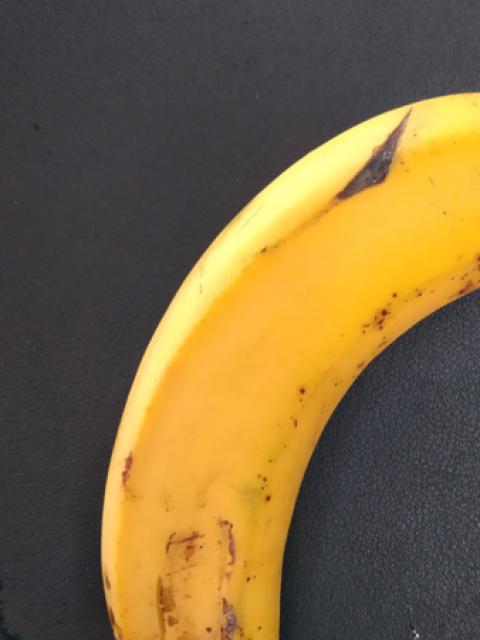ripe: (37, 73, 479, 639)
